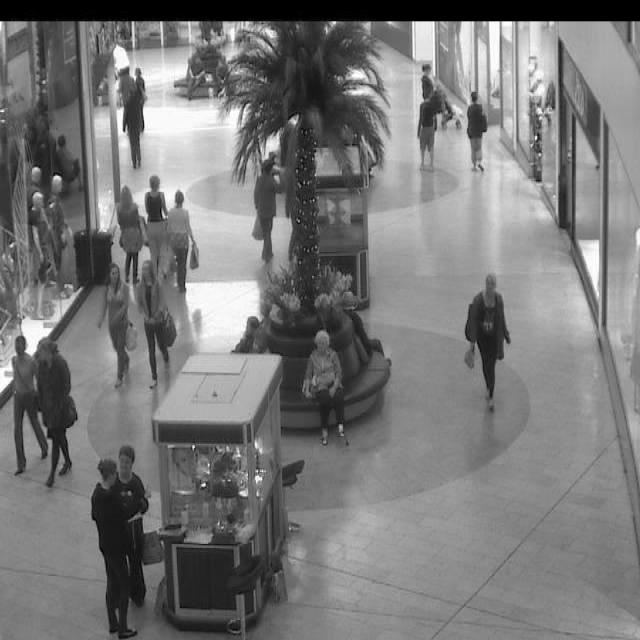person: (92, 450, 152, 638), (116, 431, 160, 608), (464, 275, 513, 409), (34, 341, 78, 487), (132, 258, 176, 391), (2, 336, 43, 475), (302, 333, 344, 446), (99, 260, 132, 383), (112, 182, 146, 290), (170, 182, 200, 298), (140, 160, 168, 277), (252, 160, 281, 259), (122, 68, 146, 172), (417, 92, 440, 168), (466, 95, 488, 170), (418, 58, 440, 106), (254, 324, 270, 353)
